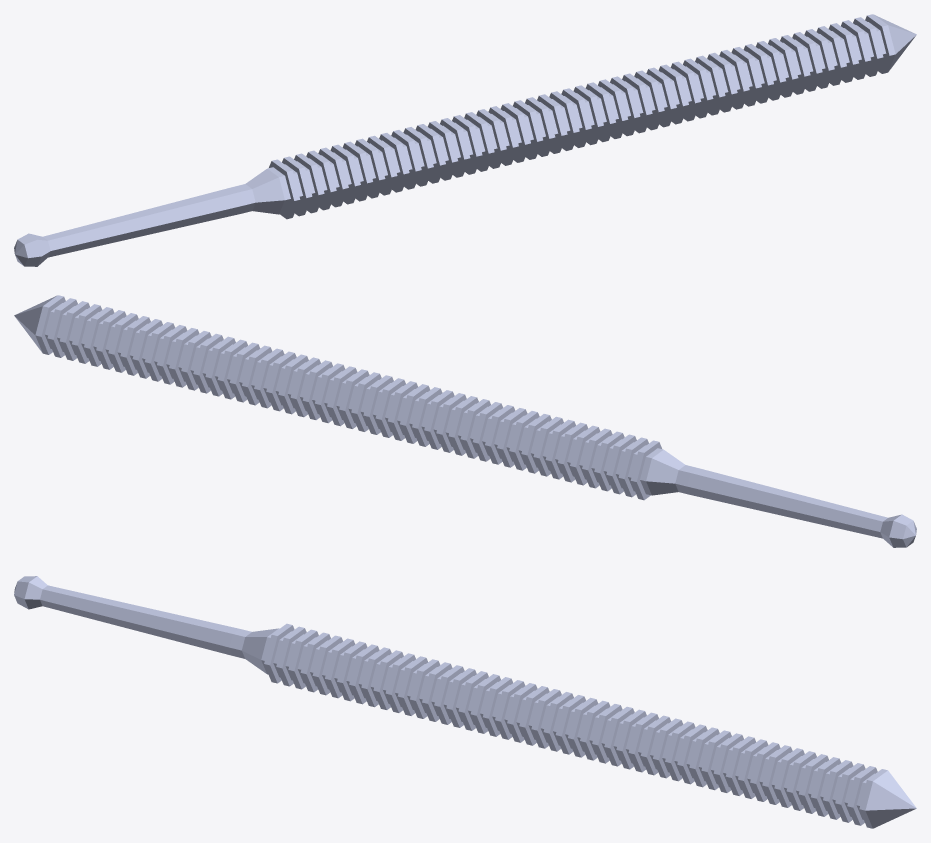
File: Shock_Baton.FBX
The picture shows the model from 3 angles, top to bottom: view 1: azimuth 30°, elevation 25°; view 2: azimuth 150°, elevation 25°; view 3: azimuth 330°, elevation 25°; orthographic projection.
Visible parts, largest first — view 1: Shock_Baton; view 2: Shock_Baton; view 3: Shock_Baton.
Boxes of the visible parts, bbox=[...] form: Shock_Baton: bbox=[14, 14, 916, 266]; Shock_Baton: bbox=[14, 295, 916, 547]; Shock_Baton: bbox=[14, 576, 916, 828].
Size of the model in its own units: 37.12 by 1.87 by 2.15.
